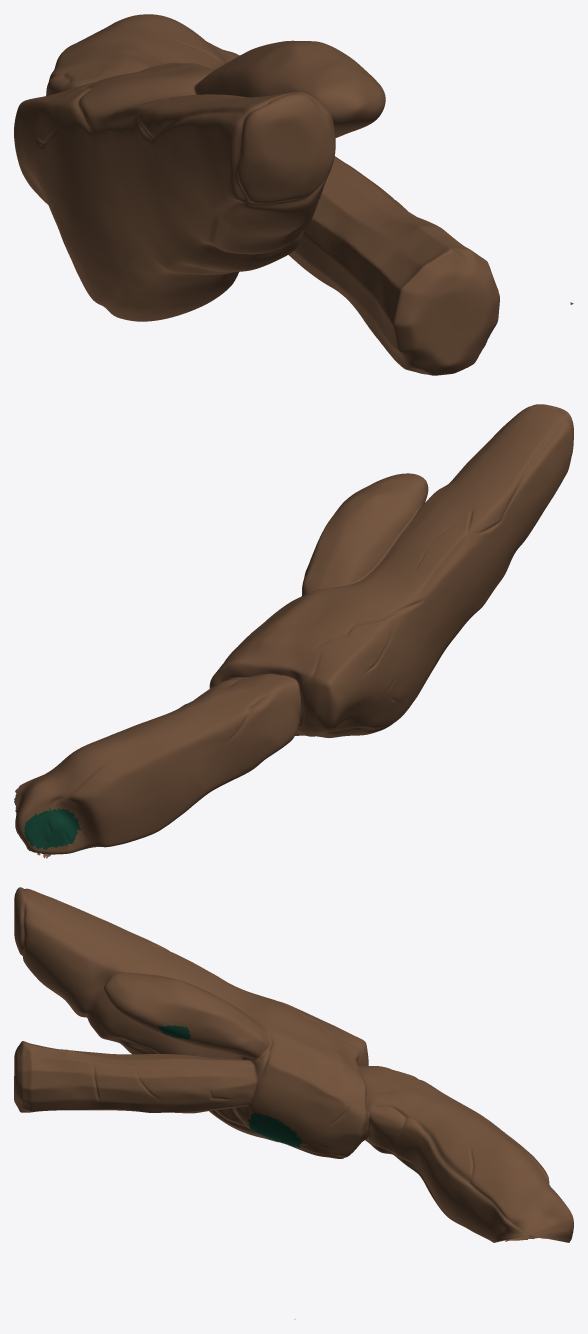
Rendered from piernaCentrRocky.obj.
3 views of the same model, one above another, from view 1: azimuth 30°, elevation 25°; view 2: azimuth 150°, elevation 25°; view 3: azimuth 270°, elevation 25° (orthographic). The views are drawn at different scales.
Parts seen in each view (by area): view 1: piernaCentral_colorCafe; view 2: piernaCentral_colorCafe, piernaCentral_Material.003; view 3: piernaCentral_colorCafe, piernaCentral_Material.003.
Part boxes in pixels (box(x1,y1,x2,y2)): piernaCentral_colorCafe: box(14, 14, 573, 375); piernaCentral_colorCafe: box(14, 404, 573, 858); piernaCentral_Material.003: box(24, 808, 80, 849); piernaCentral_colorCafe: box(14, 887, 573, 1319); piernaCentral_Material.003: box(157, 1025, 302, 1147).
Bounding box in the file's own units: 0.3705 × 0.3144 × 0.5611.
